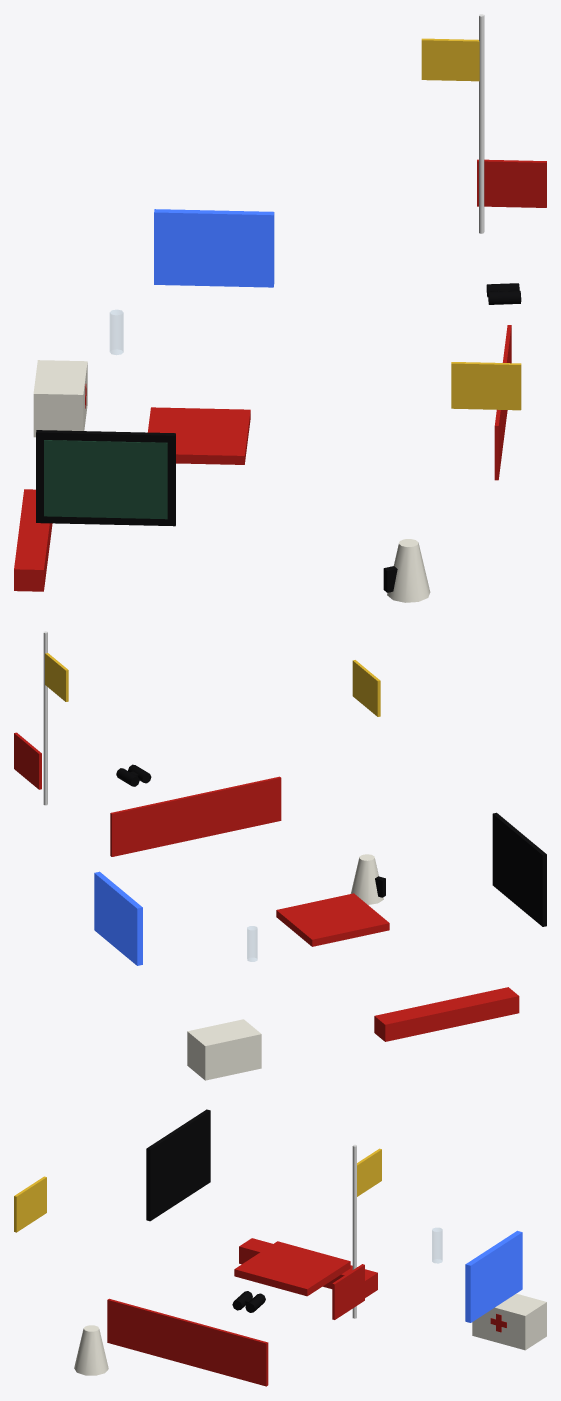
Rendered from SM_Beach_Lifeguard_NoCol.fbx.
The picture shows the model from 3 angles, top to bottom: view 1: azimuth 30°, elevation 25°; view 2: azimuth 150°, elevation 25°; view 3: azimuth 270°, elevation 25°; orthographic projection. The views are drawn at different scales.
Parts seen in each view (by area): view 1: SM_Beach_Lifeguard_NoCol; view 2: SM_Beach_Lifeguard_NoCol; view 3: SM_Beach_Lifeguard_NoCol.
Boxes of the visible parts, box(x1,y1,x2,y2) form: SM_Beach_Lifeguard_NoCol: box(14, 14, 546, 602); SM_Beach_Lifeguard_NoCol: box(14, 631, 546, 1080); SM_Beach_Lifeguard_NoCol: box(14, 1109, 546, 1386).
Size of the model in its own units: 3.42 by 2.2 by 3.37.
